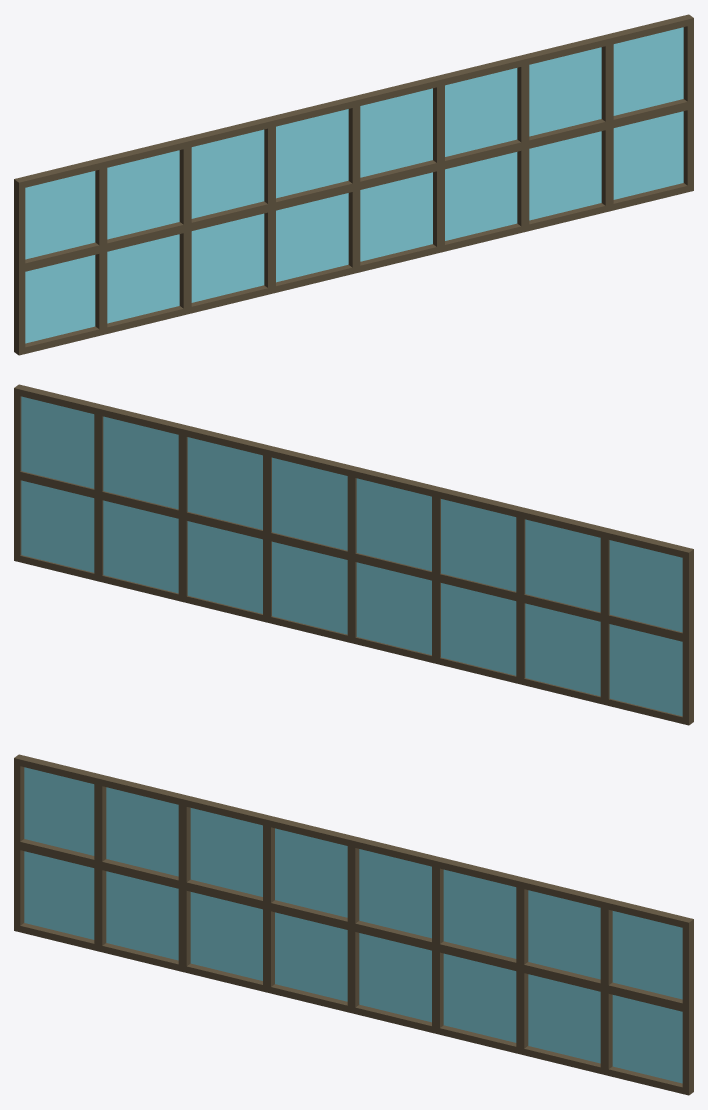
The model's file is SM_windows_cascaded.fbx.
3 views of the same model, one above another, from view 1: azimuth 30°, elevation 25°; view 2: azimuth 150°, elevation 25°; view 3: azimuth 330°, elevation 25° (orthographic).
Parts seen in each view (by area): view 1: windows_cascaded; view 2: windows_cascaded; view 3: windows_cascaded.
Boxes of the visible parts, bbox=[...] form: windows_cascaded: bbox=[14, 14, 693, 355]; windows_cascaded: bbox=[14, 384, 693, 725]; windows_cascaded: bbox=[14, 754, 693, 1095].
Bounding box in the file's own units: 1162 × 284 × 14.87.
